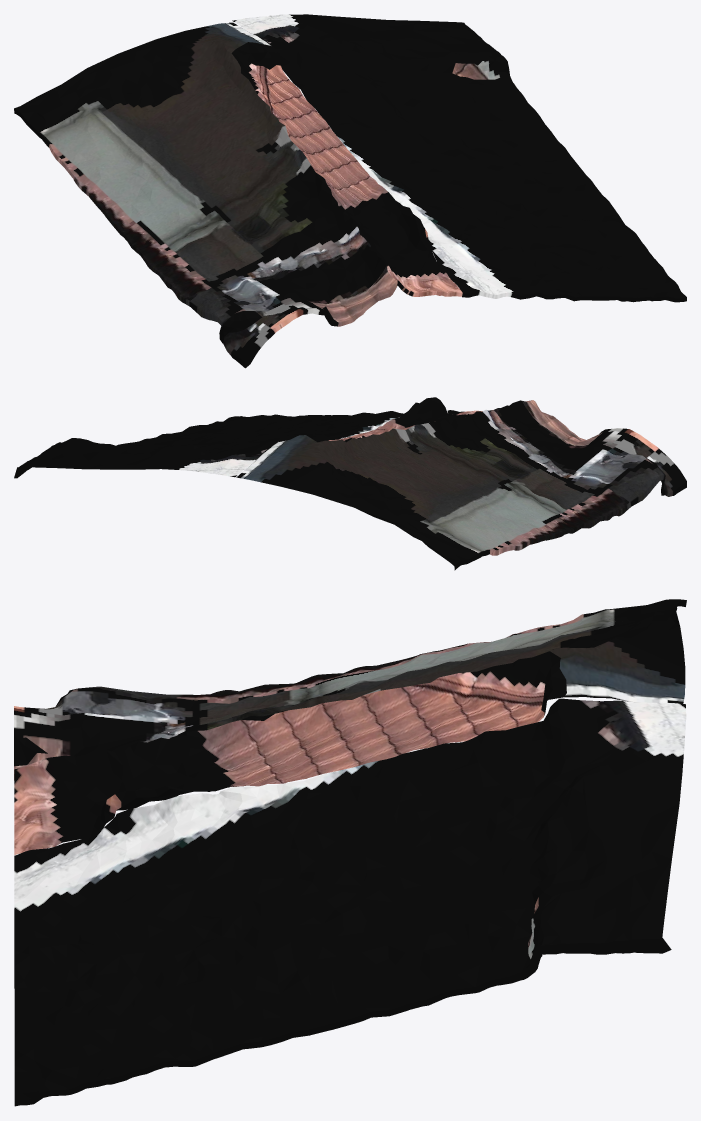
3 renders of one model, top to bottom at view 1: azimuth 30°, elevation 25°; view 2: azimuth 150°, elevation 25°; view 3: azimuth 270°, elevation 25°, orthographic. The views are drawn at different scales.
Parts seen in each view (by area): view 1: node_72; view 2: node_72; view 3: node_72.
Part boxes in pixels (left/top/right/bottom): node_72: left=14, top=14, right=686, bottom=368; node_72: left=14, top=397, right=686, bottom=570; node_72: left=14, top=599, right=686, bottom=1106.
Bounding box in the file's own units: 9.03 × 3.58 × 8.16.
1 material, 1 textured.
